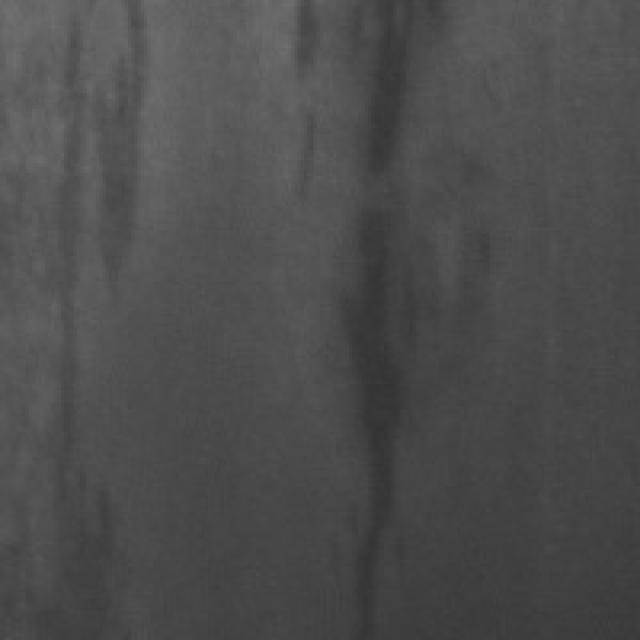inclusion: (336, 3, 451, 624), (31, 0, 150, 470), (275, 0, 336, 208)
